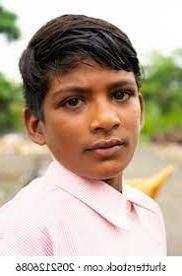Human: (5, 9, 163, 271)
